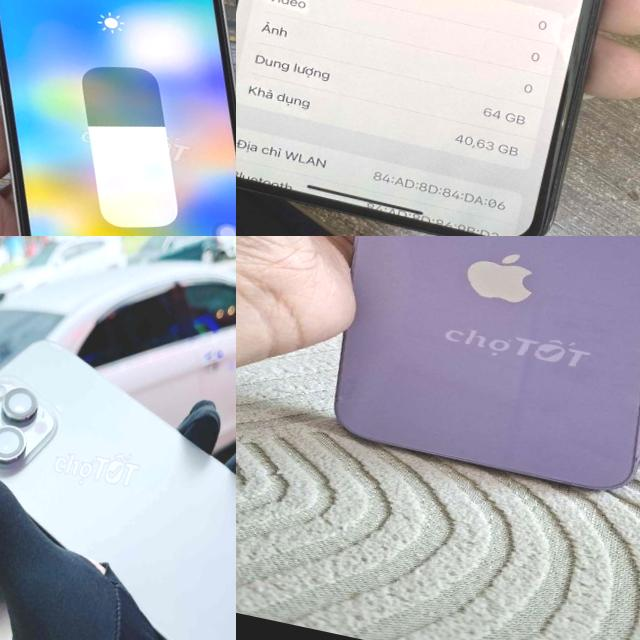gen_11: (236, 0, 602, 236)
gen_12_13: (292, 236, 640, 504), (0, 320, 236, 640), (0, 0, 236, 236)
